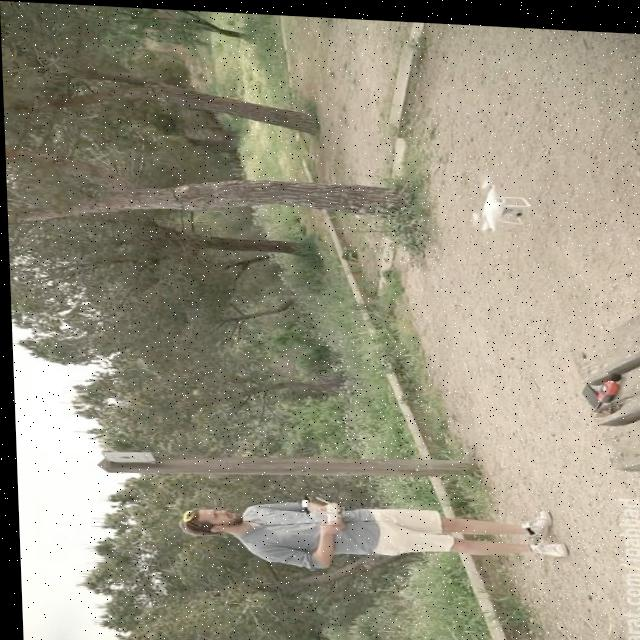drone: (463, 165, 532, 231)
